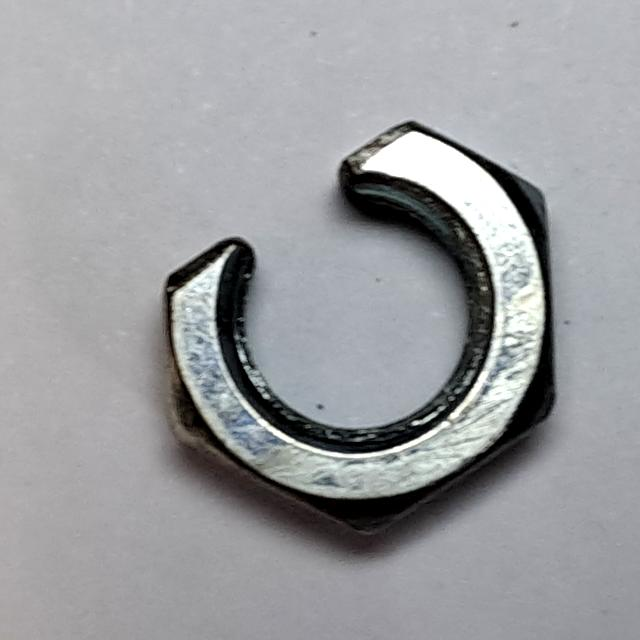Fracture: (145, 113, 578, 550)
